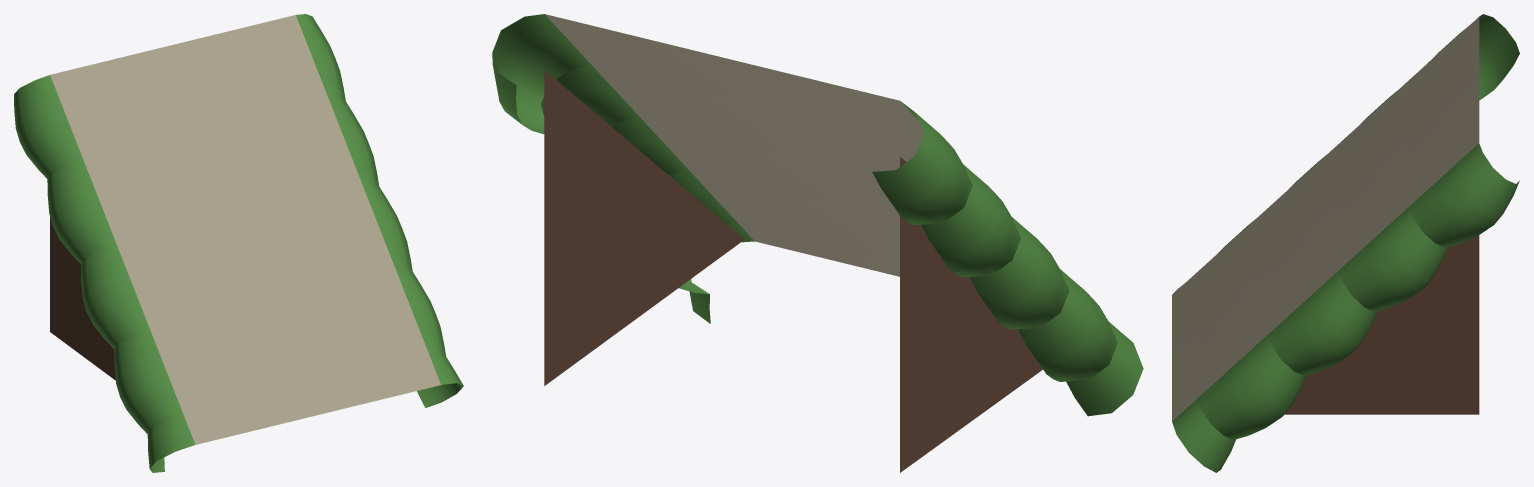
File: ForestTile_RampA.fbx
3 renders of one model, left to right at view 1: azimuth 30°, elevation 25°; view 2: azimuth 150°, elevation 25°; view 3: azimuth 270°, elevation 25°, orthographic. The views are drawn at different scales.
Parts seen in each view (by area): view 1: ForestTile_RampA; view 2: ForestTile_RampA; view 3: ForestTile_RampA.
Boxes of the visible parts, left/top/right/bottom form: ForestTile_RampA: left=14, top=14, right=463, bottom=472; ForestTile_RampA: left=492, top=14, right=1143, bottom=472; ForestTile_RampA: left=1172, top=14, right=1519, bottom=472.
Bounding box in the file's own units: 113 × 107 × 105.
